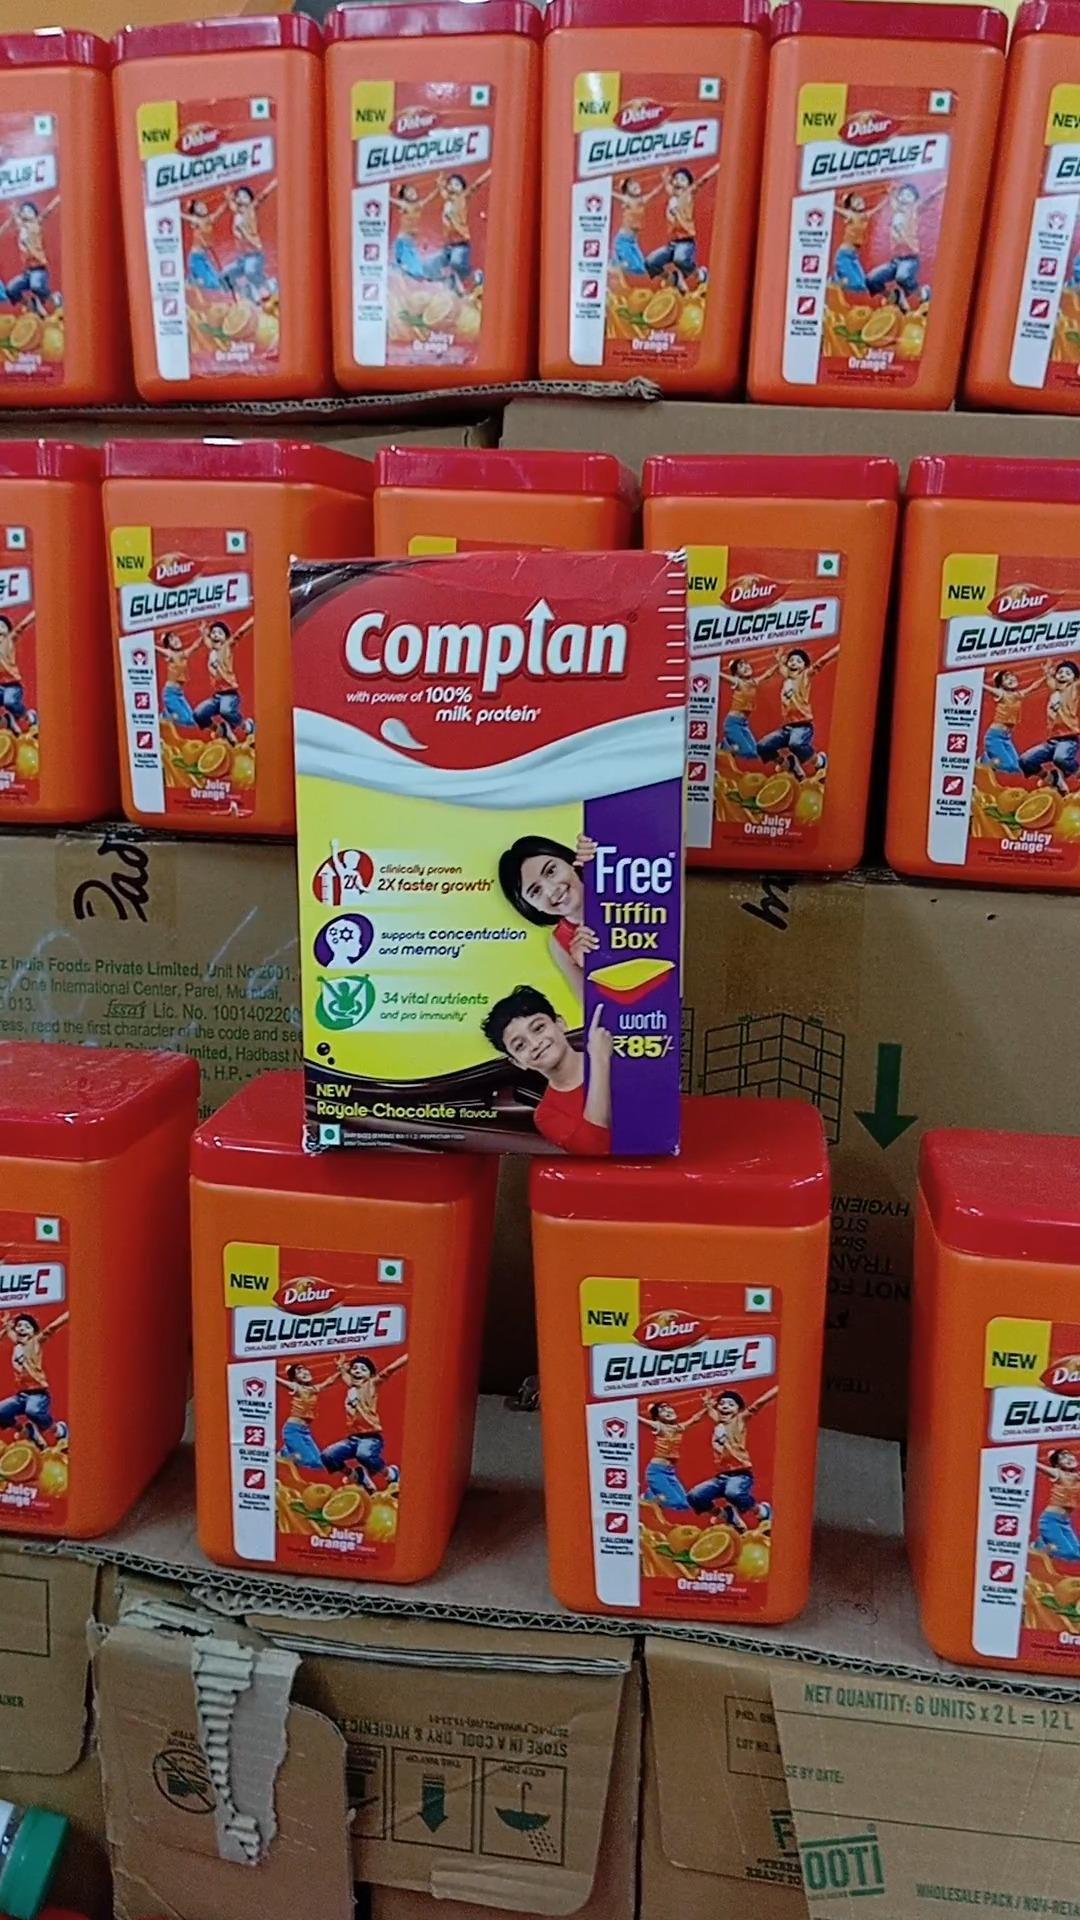COMPLAN_CHOCOLATE_500_GMS_PACK: (291, 558, 679, 1155)
